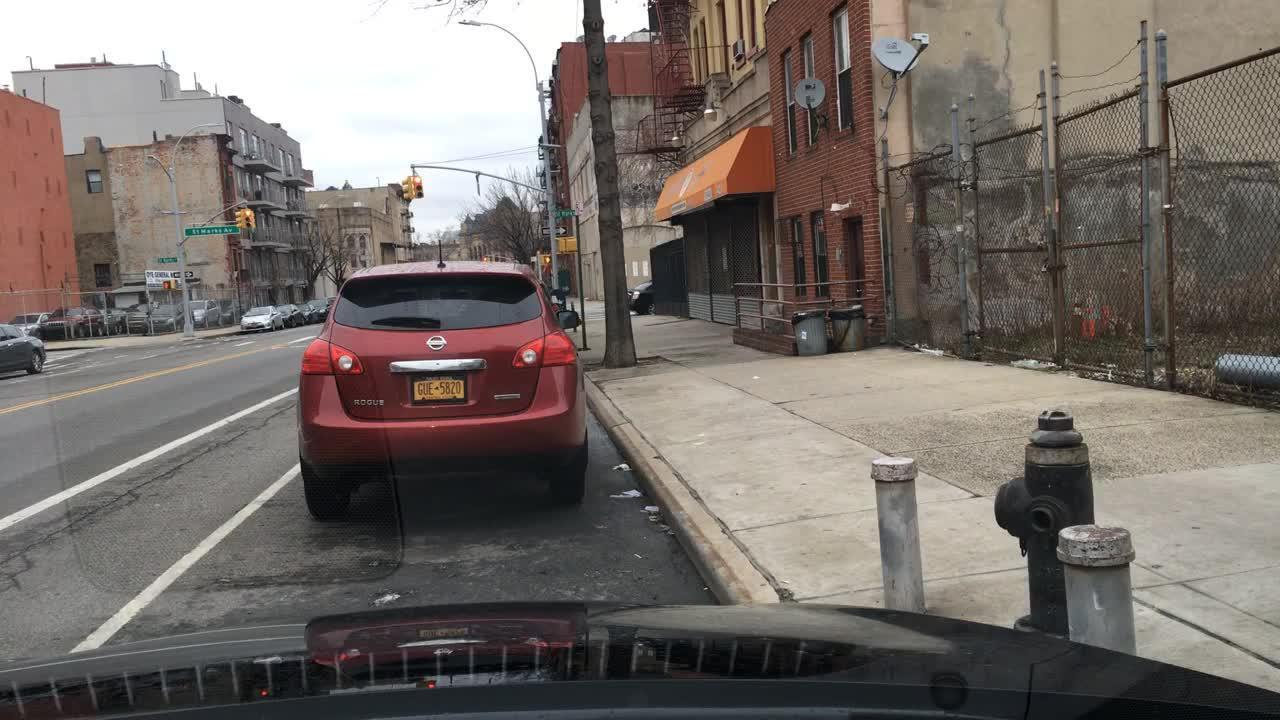Nissan: (422, 333, 450, 354)
